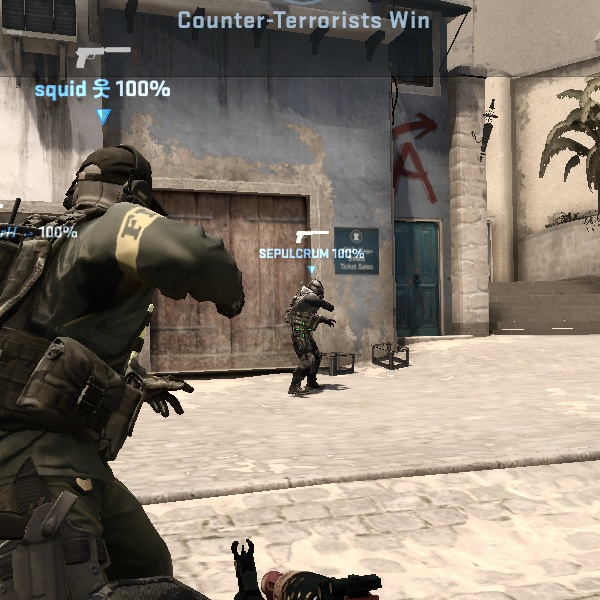ct_body: (13, 129, 245, 598), (282, 278, 344, 392)
ct_head: (61, 141, 157, 224), (305, 275, 330, 301)
